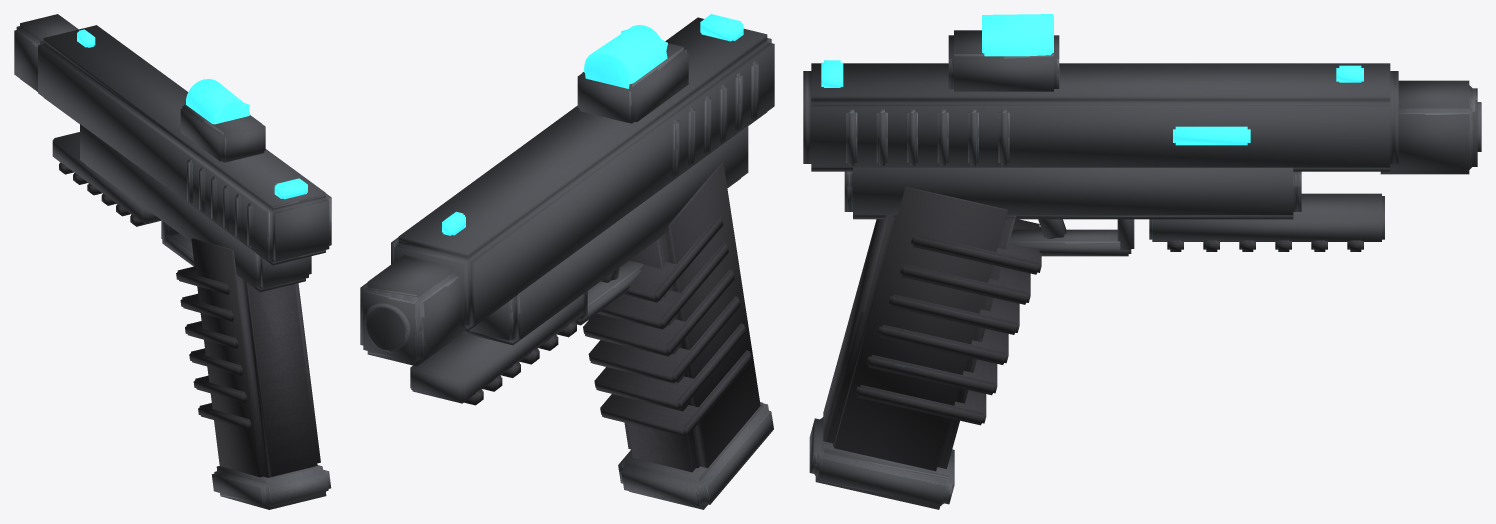
The model's file is SM_Weapon_Pistol.glb.
The picture shows the model from 3 angles, left to right: view 1: azimuth 30°, elevation 25°; view 2: azimuth 150°, elevation 25°; view 3: azimuth 270°, elevation 25°; orthographic projection. The views are drawn at different scales.
Parts seen in each view (by area): view 1: SM_Weapon_Pistol; view 2: SM_Weapon_Pistol; view 3: SM_Weapon_Pistol.
Part boxes in pixels (left/top/right/bottom): SM_Weapon_Pistol: left=14, top=14, right=331, bottom=509; SM_Weapon_Pistol: left=360, top=14, right=774, bottom=509; SM_Weapon_Pistol: left=803, top=14, right=1481, bottom=509.
Bounding box in the file's own units: 0.038 × 0.1894 × 0.245.
1 material, 1 textured.
